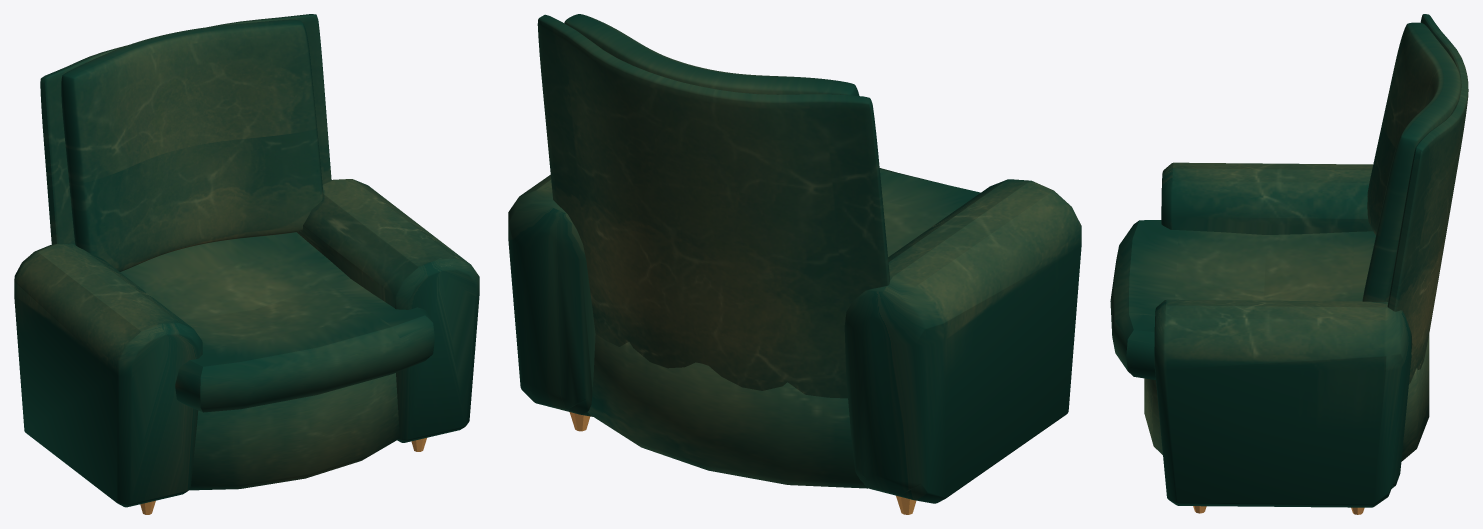
The model's file is armchair.fbx.
The picture shows the model from 3 angles, left to right: view 1: azimuth 30°, elevation 25°; view 2: azimuth 150°, elevation 25°; view 3: azimuth 270°, elevation 25°; orthographic projection. The views are drawn at different scales.
Visible parts, largest first — view 1: Cube.003; view 2: Cube.003; view 3: Cube.003.
Part boxes in pixels (x1,y1,x2,y2): Cube.003: [14, 14, 479, 514]; Cube.003: [508, 14, 1081, 514]; Cube.003: [1110, 14, 1468, 514].
Size of the model in its own units: 482 by 458 by 404.
1 material, 1 textured.
